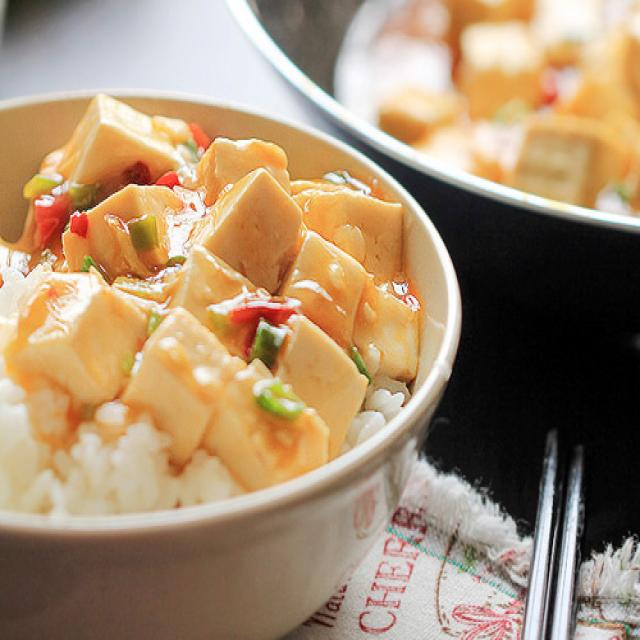com: (0, 379, 251, 518)
dau hu: (15, 94, 419, 490)
